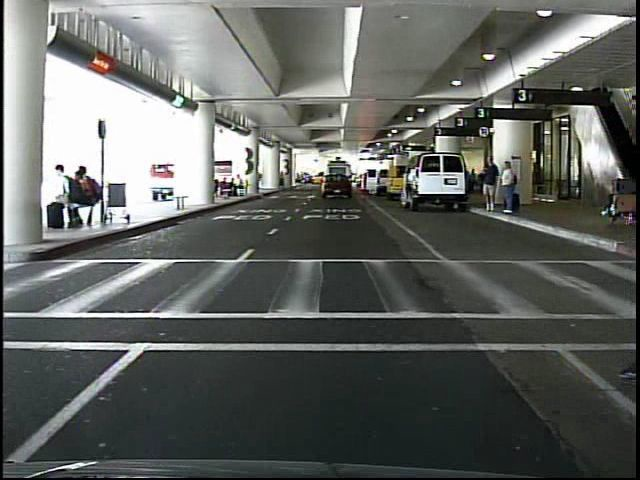person: (499, 157, 520, 220), (479, 152, 499, 217), (321, 170, 332, 194)
